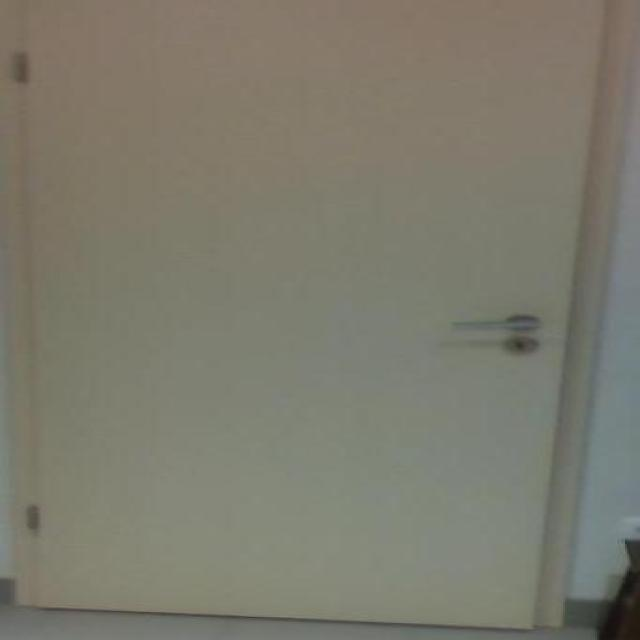door_handle: (437, 307, 558, 337)
